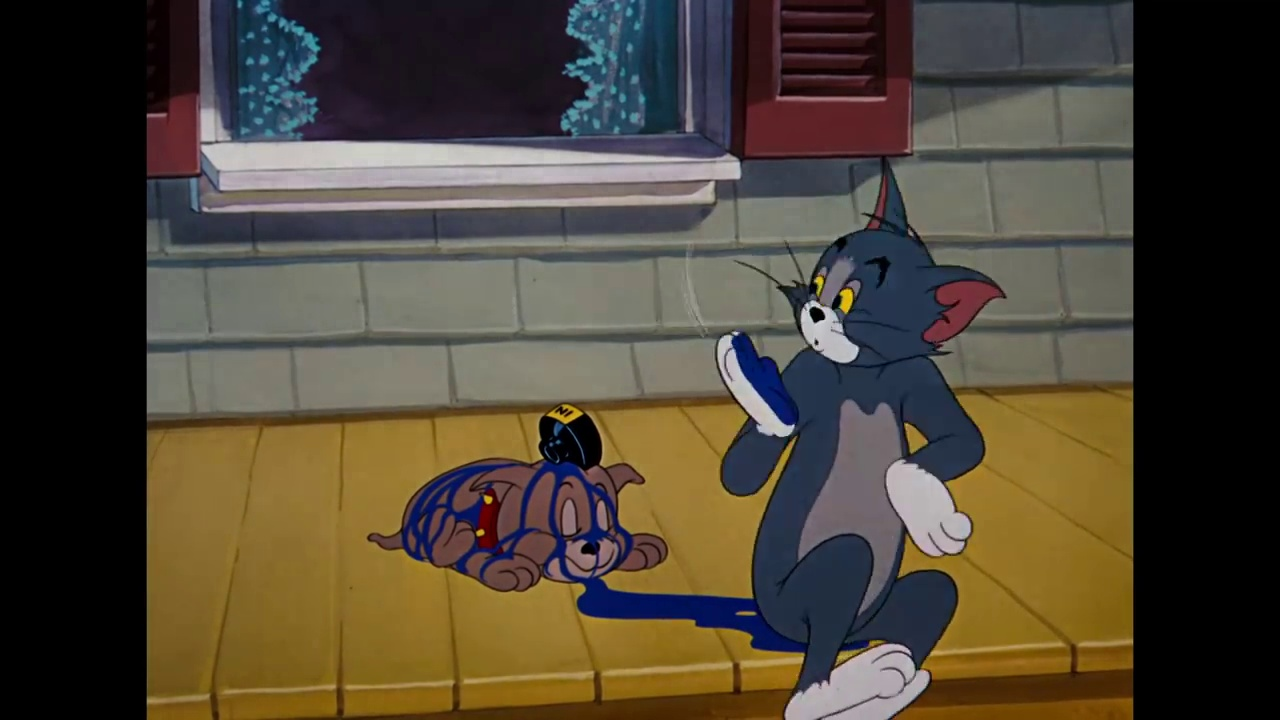tom: (774, 157, 1011, 371)
